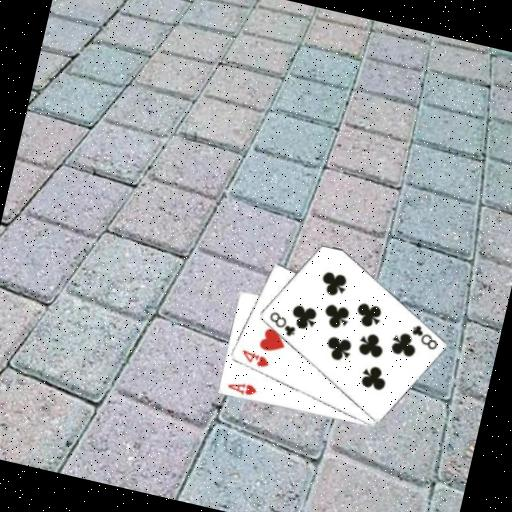4H: (237, 346, 273, 371)
8C: (263, 307, 300, 339), (405, 321, 442, 353)
AH: (224, 376, 260, 399)
